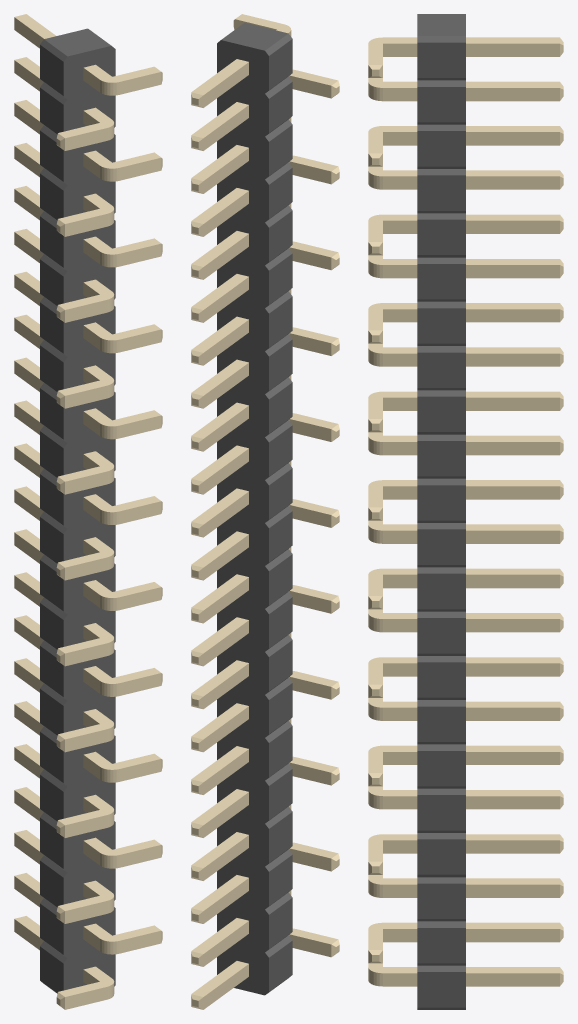
File: PinHeader_1x22_P1.00mm_Vertical_SMD_Pin1Left.glb
3 renders of one model, left to right at view 1: azimuth 30°, elevation 25°; view 2: azimuth 150°, elevation 25°; view 3: azimuth 270°, elevation 25°, orthographic. The views are drawn at different scales.
Parts seen in each view (by area): view 1: Shape_IndexedFaceSet.003, Shape_IndexedFaceSet.001, Shape_IndexedFaceSet.007, Shape_IndexedFaceSet.019, Shape_IndexedFaceSet.079, Shape_IndexedFaceSet.091, Shape_IndexedFaceSet.103, Shape_IndexedFaceSet.127, Shape_IndexedFaceSet.043, Shape_IndexedFaceSet.055, Shape_IndexedFaceSet.031, Shape_IndexedFaceSet.067 (+79 smaller); view 2: Shape_IndexedFaceSet.004, Shape_IndexedFaceSet.001, Shape_IndexedFaceSet.007, Shape_IndexedFaceSet.037, Shape_IndexedFaceSet.055, Shape_IndexedFaceSet.061, Shape_IndexedFaceSet.079, Shape_IndexedFaceSet.085, Shape_IndexedFaceSet.097, Shape_IndexedFaceSet.103, Shape_IndexedFaceSet.019, Shape_IndexedFaceSet.043 (+68 smaller); view 3: Shape_IndexedFaceSet.076, Shape_IndexedFaceSet.002, Shape_IndexedFaceSet.010, Shape_IndexedFaceSet.016, Shape_IndexedFaceSet.022, Shape_IndexedFaceSet.028, Shape_IndexedFaceSet.034, Shape_IndexedFaceSet.040, Shape_IndexedFaceSet.046, Shape_IndexedFaceSet.052, Shape_IndexedFaceSet.058, Shape_IndexedFaceSet.064 (+87 smaller).
Boxes of the visible parts, x1=… form: Shape_IndexedFaceSet.003: x1=63, y1=46, x2=115, y2=990; Shape_IndexedFaceSet.001: x1=44, y1=28, x2=111, y2=56; Shape_IndexedFaceSet.007: x1=40, y1=45, x2=63, y2=95; Shape_IndexedFaceSet.019: x1=40, y1=130, x2=63, y2=181; Shape_IndexedFaceSet.079: x1=40, y1=560, x2=63, y2=611; Shape_IndexedFaceSet.091: x1=40, y1=646, x2=63, y2=696; Shape_IndexedFaceSet.103: x1=40, y1=732, x2=63, y2=782; Shape_IndexedFaceSet.127: x1=40, y1=903, x2=63, y2=954; Shape_IndexedFaceSet.043: x1=40, y1=302, x2=63, y2=353; Shape_IndexedFaceSet.055: x1=40, y1=388, x2=63, y2=439; Shape_IndexedFaceSet.031: x1=40, y1=216, x2=63, y2=267; Shape_IndexedFaceSet.067: x1=40, y1=474, x2=63, y2=525; Shape_IndexedFaceSet.004: x1=217, y1=40, x2=268, y2=995; Shape_IndexedFaceSet.001: x1=221, y1=22, x2=288, y2=50; Shape_IndexedFaceSet.007: x1=269, y1=39, x2=292, y2=89; Shape_IndexedFaceSet.037: x1=269, y1=253, x2=292, y2=304; Shape_IndexedFaceSet.055: x1=269, y1=382, x2=292, y2=433; Shape_IndexedFaceSet.061: x1=269, y1=425, x2=292, y2=476; Shape_IndexedFaceSet.079: x1=269, y1=554, x2=292, y2=605; Shape_IndexedFaceSet.085: x1=269, y1=597, x2=292, y2=648; Shape_IndexedFaceSet.097: x1=269, y1=683, x2=292, y2=734; Shape_IndexedFaceSet.103: x1=269, y1=726, x2=292, y2=776; Shape_IndexedFaceSet.019: x1=269, y1=125, x2=292, y2=175; Shape_IndexedFaceSet.043: x1=269, y1=296, x2=292, y2=347; Shape_IndexedFaceSet.076: x1=417, y1=573, x2=465, y2=609; Shape_IndexedFaceSet.002: x1=417, y1=42, x2=465, y2=77; Shape_IndexedFaceSet.010: x1=417, y1=87, x2=465, y2=122; Shape_IndexedFaceSet.016: x1=417, y1=131, x2=465, y2=166; Shape_IndexedFaceSet.022: x1=417, y1=175, x2=465, y2=210; Shape_IndexedFaceSet.028: x1=417, y1=219, x2=465, y2=254; Shape_IndexedFaceSet.034: x1=417, y1=264, x2=465, y2=299; Shape_IndexedFaceSet.040: x1=417, y1=308, x2=465, y2=343; Shape_IndexedFaceSet.046: x1=417, y1=352, x2=465, y2=387; Shape_IndexedFaceSet.052: x1=417, y1=396, x2=465, y2=431; Shape_IndexedFaceSet.058: x1=417, y1=441, x2=465, y2=476; Shape_IndexedFaceSet.064: x1=417, y1=485, x2=465, y2=520.
Bounding box in the file's own units: 0.984 × 8.66 × 1.58.
